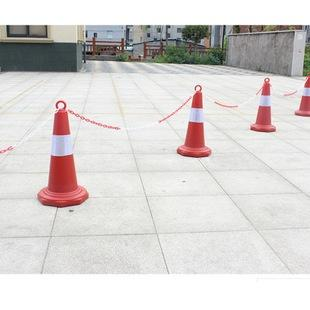cone_barrel: (35, 102, 88, 208), (175, 87, 212, 157), (248, 76, 276, 133), (293, 72, 309, 116)
